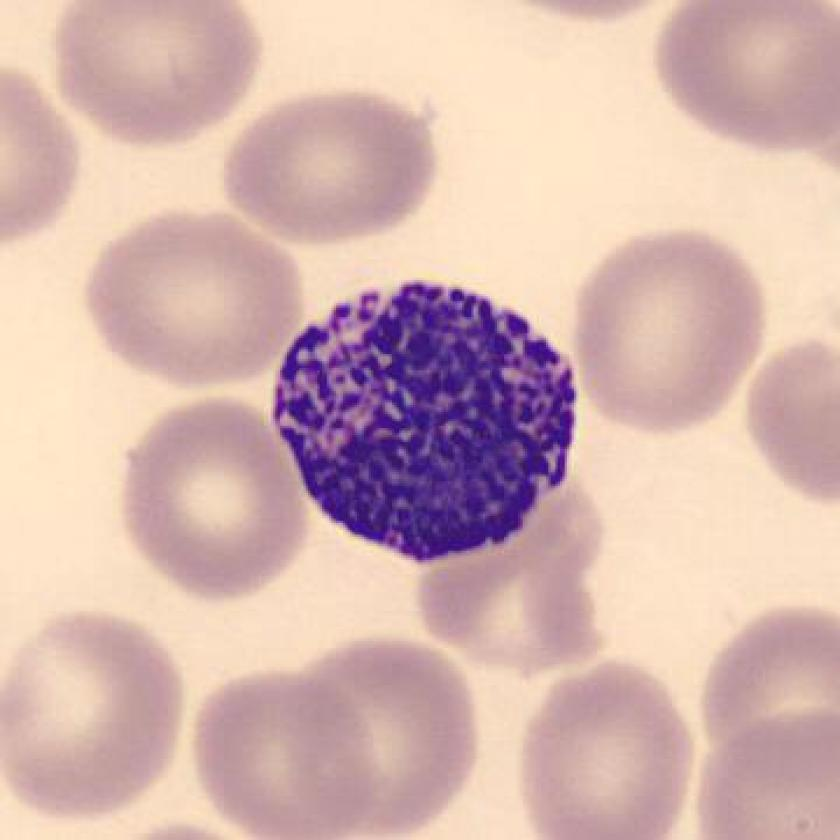basophil: (269, 274, 587, 573)
